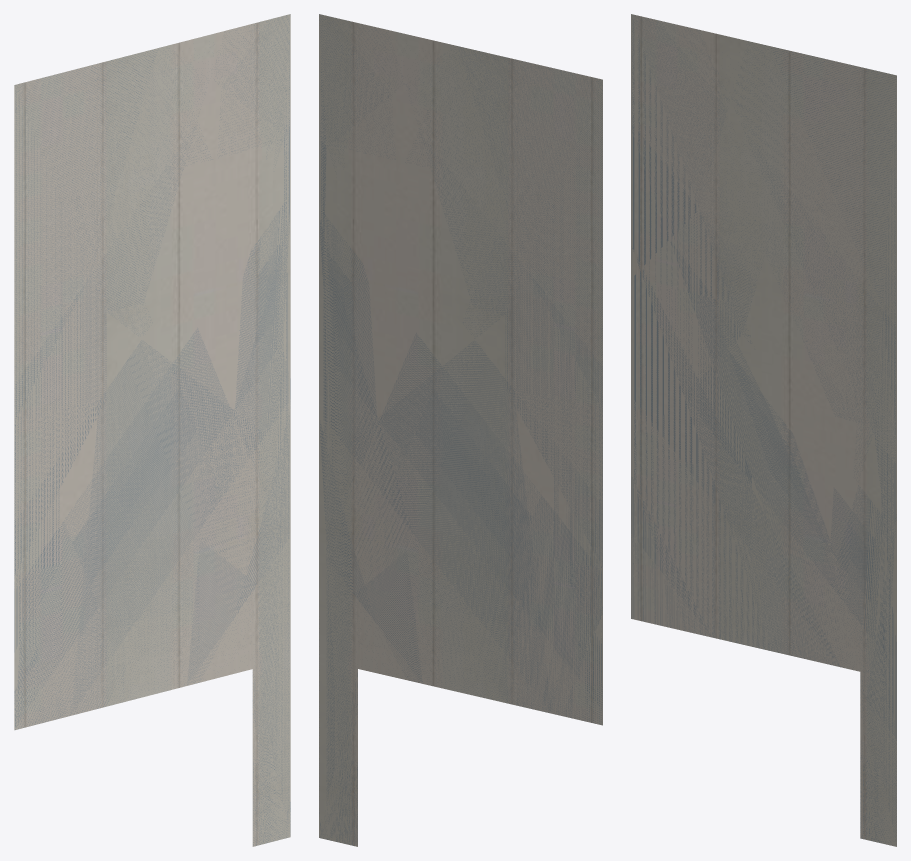
The model's file is 水立方48.dae.
The picture shows the model from 3 angles, left to right: view 1: azimuth 30°, elevation 25°; view 2: azimuth 150°, elevation 25°; view 3: azimuth 330°, elevation 25°; orthographic projection. The views are drawn at different scales.
Visible parts, largest first — view 1: SketchUp; view 2: SketchUp; view 3: SketchUp.
Boxes of the visible parts, <box> form: SketchUp: <box>14,14,290,846</box>; SketchUp: <box>319,14,602,846</box>; SketchUp: <box>631,14,896,846</box>.
Size of the model in its own units: 87.18 by 2.02 by 245.
